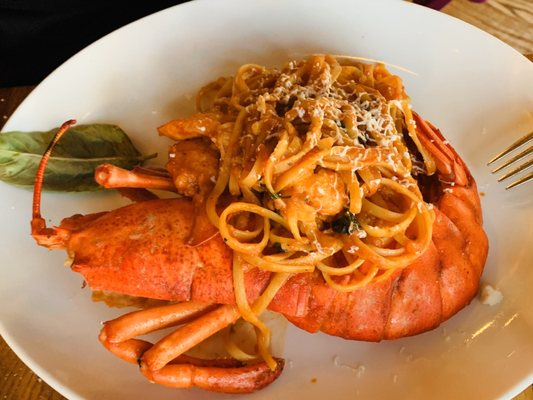burger: (487, 130, 533, 192)
